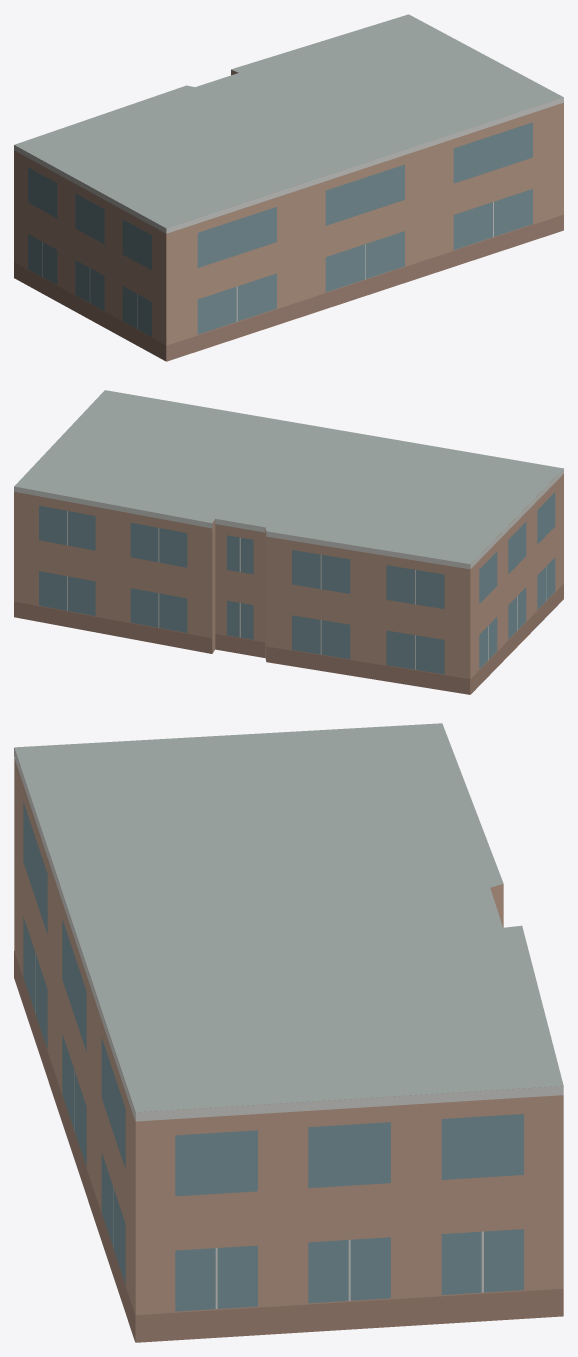
Rendered from survey-upis-32470603.glb.
The picture shows the model from 3 angles, top to bottom: view 1: azimuth 30°, elevation 25°; view 2: azimuth 150°, elevation 25°; view 3: azimuth 270°, elevation 25°; orthographic projection. The views are drawn at different scales.
Parts seen in each view (by area): view 1: survey-upis-32470603.tmp; view 2: survey-upis-32470603.tmp; view 3: survey-upis-32470603.tmp.
Boxes of the visible parts, bbox=[...] form: survey-upis-32470603.tmp: bbox=[14, 14, 563, 361]; survey-upis-32470603.tmp: bbox=[14, 390, 563, 694]; survey-upis-32470603.tmp: bbox=[14, 723, 563, 1342].
Bounding box in the file's own units: 22.11 × 6.1 × 13.2.
